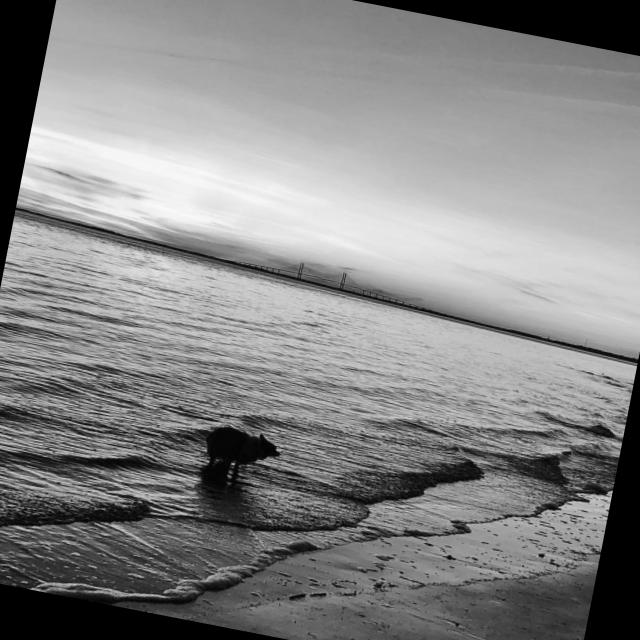squatting: (194, 418, 288, 490)
